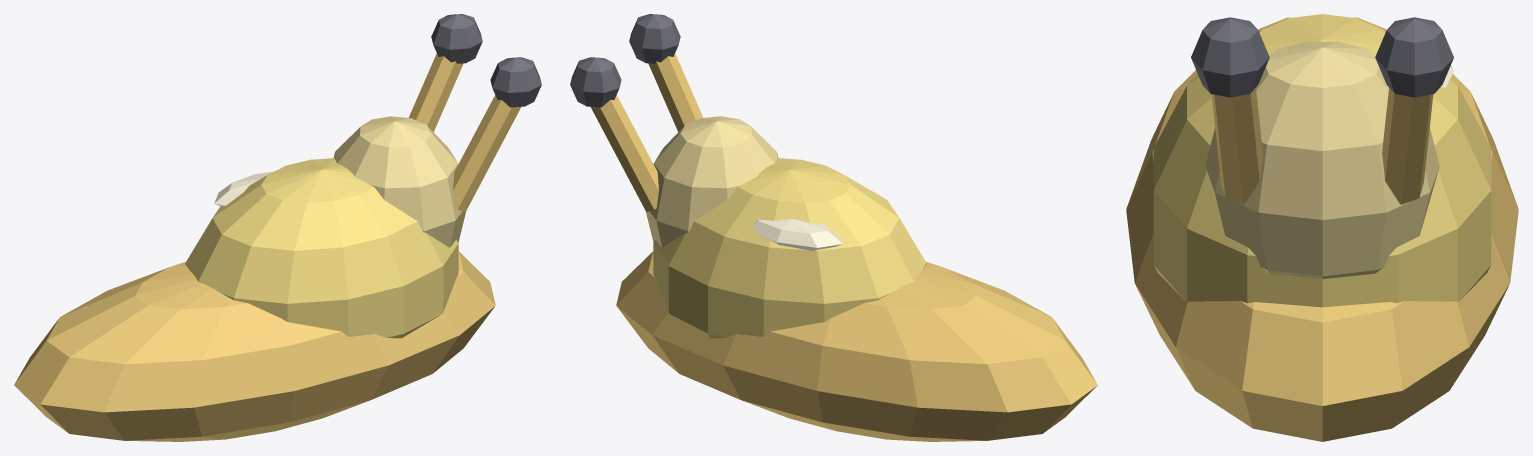
The model's file is babosa_dorada.glb.
3 views of the same model, side by side, from view 1: azimuth 30°, elevation 25°; view 2: azimuth 150°, elevation 25°; view 3: azimuth 270°, elevation 25° (orthographic). The views are drawn at different scales.
Visible parts, largest first — view 1: babosa_dorada; view 2: babosa_dorada; view 3: babosa_dorada.
Part boxes in pixels (box(x1,y1,x2,y2)): babosa_dorada: box(14, 14, 541, 441); babosa_dorada: box(570, 14, 1097, 441); babosa_dorada: box(1126, 14, 1518, 441).
Size of the model in its own units: 1.32 by 0.845 by 0.5967.
